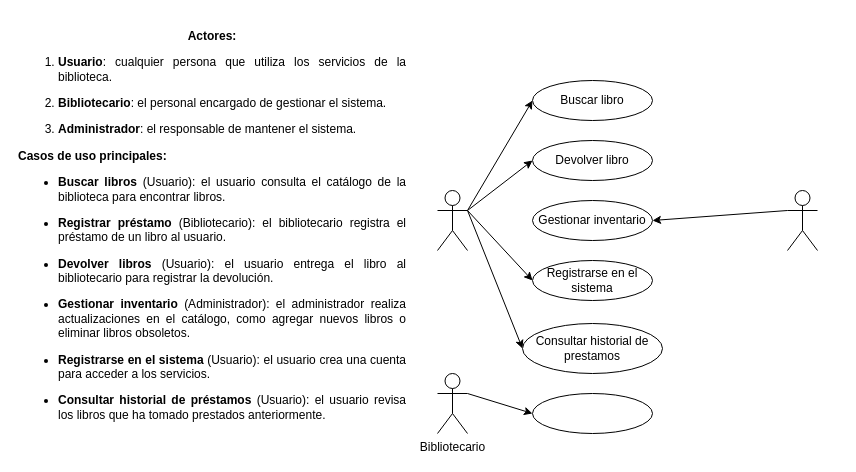
Image size: 856x472. Some labels were removed from this diagram. Each missing label, with the centre of its shape:
"Administrador" belongs at point (802, 220).
"Regitrar prestamo" belongs at point (592, 413).
"Usuario" belongs at point (452, 220).
